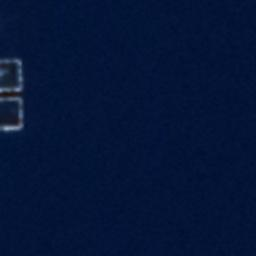square_solid: (1, 91, 28, 136), (1, 54, 26, 95)
